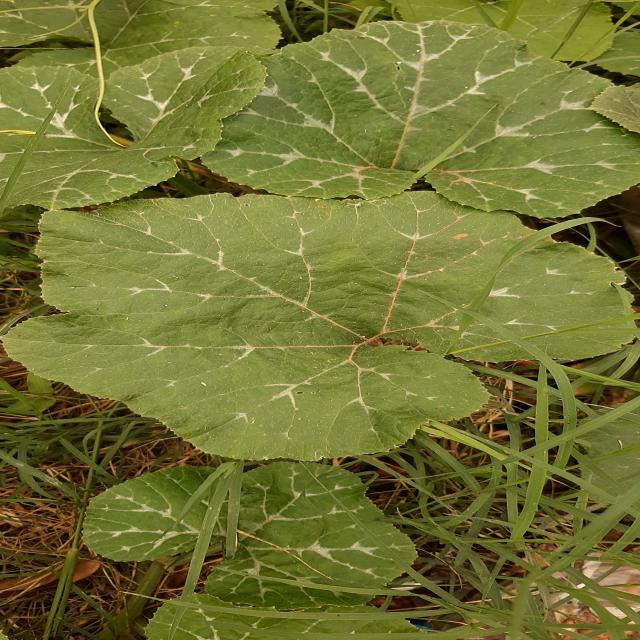pumpkin: (5, 191, 634, 460)
